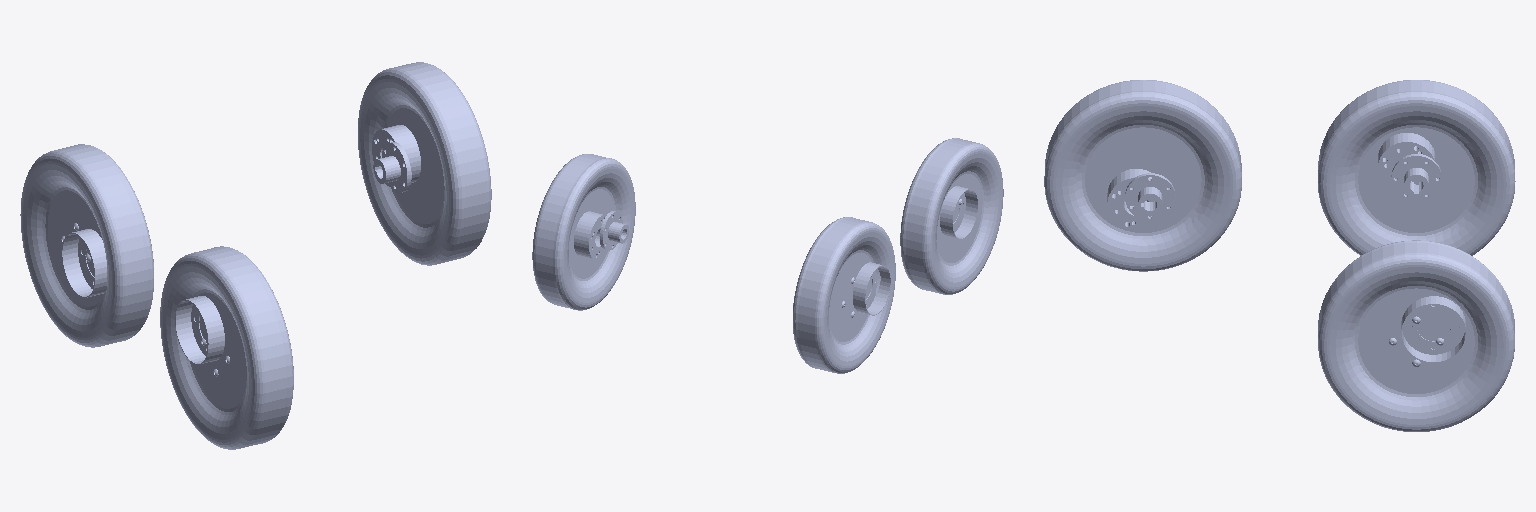
robot.urdf — puma_description:
<?xml version="1.0" encoding="utf-8"?>
<!-- This URDF was automatically created by SolidWorks to URDF Exporter! Originally created by [author] ([email redacted]) 
     Commit Version: 1.5.1-0-g916b5db  Build Version: 1.5.7152.31018
     For more information, please see http://wiki.ros.org/sw_urdf_exporter -->
<robot
  name="puma_description">
  <link
    name="base_link">
    <inertial>
      <origin
        xyz="-0.145 0.20608 0.037771"
        rpy="0 0 0" />
      <mass
        value="7.303" />
      <inertia
        ixx="0.050467"
        ixy="3.355E-05"
        ixz="-8.556E-06"
        iyy="0.040176"
        iyz="-1.388E-05"
        izz="0.08244" />
    </inertial>
    <visual>
      <origin
        xyz="0 0 0"
        rpy="0 0 0" />
      <geometry>
        <mesh
          filename="package://puma_description/meshes/base_link.STL" />
      </geometry>
      <material
        name="">
        <color
          rgba="0.79216 0.81961 0.93333 1" />
      </material>
    </visual>
    <collision>
      <origin
        xyz="0 0 0"
        rpy="0 0 0" />
      <geometry>
        <mesh
          filename="package://puma_description/meshes/base_link.STL" />
      </geometry>
    </collision>
  </link>
  <link
    name="w1_link">
    <inertial>
      <origin
        xyz="0.062422 0.055401 0.028047"
        rpy="0 0 0" />
      <mass
        value="1.7481" />
      <inertia
        ixx="0.01065"
        ixy="-4.458E-11"
        ixz="-3.7961E-08"
        iyy="0.005552"
        iyz="-2.371E-08"
        izz="0.005552" />
    </inertial>
    <visual>
      <origin
        xyz="0 0 0"
        rpy="0 0 0" />
      <geometry>
        <mesh
          filename="package://puma_description/meshes/w1_link.STL" />
      </geometry>
      <material
        name="">
        <color
          rgba="0.79216 0.81961 0.93333 1" />
      </material>
    </visual>
    <collision>
      <origin
        xyz="0 0 0"
        rpy="0 0 0" />
      <geometry>
        <mesh
          filename="package://puma_description/meshes/w1_link.STL" />
      </geometry>
    </collision>
  </link>
  <joint
    name="wheel1"
    type="revolute">
    <origin
      xyz="0 0 0"
      rpy="0 0 0" />
    <parent
      link="base_link" />
    <child
      link="w1_link" />
    <axis
      xyz="1 0 0" />
    <limit
      lower="0"
      upper="0"
      effort="0"
      velocity="0" />
  </joint>
  <link
    name="w2_link">
    <inertial>
      <origin
        xyz="0.062422 0.3646 0.028047"
        rpy="0 0 0" />
      <mass
        value="1.7481" />
      <inertia
        ixx="0.01065"
        ixy="-4.458E-11"
        ixz="-3.7961E-08"
        iyy="0.005552"
        iyz="-2.371E-08"
        izz="0.005552" />
    </inertial>
    <visual>
      <origin
        xyz="0 0 0"
        rpy="0 0 0" />
      <geometry>
        <mesh
          filename="package://puma_description/meshes/w2_link.STL" />
      </geometry>
      <material
        name="">
        <color
          rgba="0.79216 0.81961 0.93333 1" />
      </material>
    </visual>
    <collision>
      <origin
        xyz="0 0 0"
        rpy="0 0 0" />
      <geometry>
        <mesh
          filename="package://puma_description/meshes/w2_link.STL" />
      </geometry>
    </collision>
  </link>
  <joint
    name="wheel2"
    type="revolute">
    <origin
      xyz="0 0 0"
      rpy="0 0 0" />
    <parent
      link="base_link" />
    <child
      link="w2_link" />
    <axis
      xyz="1 0 0" />
    <limit
      lower="0"
      upper="0"
      effort="0"
      velocity="0" />
  </joint>
  <link
    name="w3_link">
    <inertial>
      <origin
        xyz="-0.36242 0.3646 0.028047"
        rpy="0 0 0" />
      <mass
        value="1.7481" />
      <inertia
        ixx="0.01065"
        ixy="-5.4153E-11"
        ixz="3.7968E-08"
        iyy="0.005552"
        iyz="2.3711E-08"
        izz="0.005552" />
    </inertial>
    <visual>
      <origin
        xyz="0 0 0"
        rpy="0 0 0" />
      <geometry>
        <mesh
          filename="package://puma_description/meshes/w3_link.STL" />
      </geometry>
      <material
        name="">
        <color
          rgba="0.79216 0.81961 0.93333 1" />
      </material>
    </visual>
    <collision>
      <origin
        xyz="0 0 0"
        rpy="0 0 0" />
      <geometry>
        <mesh
          filename="package://puma_description/meshes/w3_link.STL" />
      </geometry>
    </collision>
  </link>
  <joint
    name="wheel3"
    type="revolute">
    <origin
      xyz="0 0 0"
      rpy="0 0 0" />
    <parent
      link="base_link" />
    <child
      link="w3_link" />
    <axis
      xyz="-1 0 0" />
    <limit
      lower="0"
      upper="0"
      effort="0"
      velocity="0" />
  </joint>
  <link
    name="w4_link">
    <inertial>
      <origin
        xyz="-0.36242 0.055401 0.028053"
        rpy="0 0 0" />
      <mass
        value="1.7481" />
      <inertia
        ixx="0.01065"
        ixy="5.2163E-11"
        ixz="-3.795E-08"
        iyy="0.005552"
        iyz="2.3711E-08"
        izz="0.005552" />
    </inertial>
    <visual>
      <origin
        xyz="0 0 0"
        rpy="0 0 0" />
      <geometry>
        <mesh
          filename="package://puma_description/meshes/w4_link.STL" />
      </geometry>
      <material
        name="">
        <color
          rgba="0.79216 0.81961 0.93333 1" />
      </material>
    </visual>
    <collision>
      <origin
        xyz="0 0 0"
        rpy="0 0 0" />
      <geometry>
        <mesh
          filename="package://puma_description/meshes/w4_link.STL" />
      </geometry>
    </collision>
  </link>
  <joint
    name="wheel4"
    type="revolute">
    <origin
      xyz="0 0 0"
      rpy="0 0 0" />
    <parent
      link="base_link" />
    <child
      link="w4_link" />
    <axis
      xyz="-1 0 0" />
    <limit
      lower="0"
      upper="0"
      effort="0"
      velocity="0" />
  </joint>
</robot>

--- Facts derived from the render (not from the file) ---
Views: 3 orthographic renders of the robot side by side, from view 1: azimuth 30°, elevation 25°; view 2: azimuth 150°, elevation 25°; view 3: azimuth 270°, elevation 25°.
Robot: puma_description — 5 links, 4 joints (4 revolute); root link base_link; default pose: all joints at 0.
Visible links, largest first — view 1: w4_link, w2_link, w3_link; view 2: w4_link, w2_link, w3_link; view 3: w4_link, w2_link, w3_link.
Boxes of the visible links, x1,y1,x2,y2 form: w4_link: [160, 246, 293, 449]; w2_link: [358, 62, 491, 265]; w3_link: [20, 144, 153, 347]; w4_link: [900, 138, 1003, 294]; w2_link: [532, 154, 635, 310]; w3_link: [793, 217, 895, 373]; w4_link: [1044, 80, 1241, 271]; w2_link: [1318, 240, 1514, 431]; w3_link: [1318, 80, 1515, 255].
Size in the robot's own frame: 0.4987 by 0.5329 by 0.2239 metres.
Meshes: 5 distinct files referenced, 3 mesh visuals loaded (3 binary STL); not drawn: 2 (reference not matched to a file when rendering).